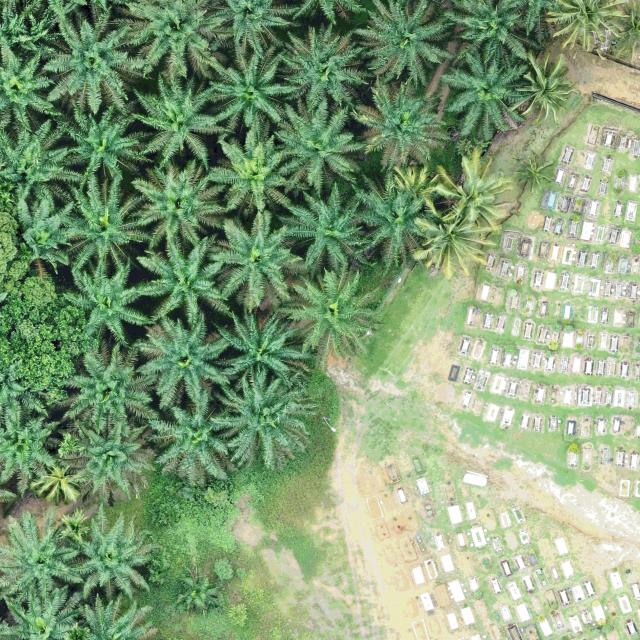Tree: (0, 268, 100, 400), (38, 5, 149, 116), (277, 262, 386, 366), (192, 212, 306, 311), (129, 155, 233, 254), (208, 375, 316, 469), (345, 80, 451, 174), (110, 0, 233, 81), (62, 173, 154, 281), (275, 178, 375, 277), (344, 0, 458, 86), (133, 310, 230, 410), (55, 511, 159, 604), (62, 336, 157, 436), (438, 44, 526, 142), (209, 302, 311, 385), (146, 396, 240, 486), (135, 234, 228, 324), (130, 75, 223, 165), (279, 20, 370, 110), (214, 134, 307, 221), (273, 103, 365, 190), (60, 256, 153, 342), (207, 45, 295, 135), (67, 419, 161, 502), (0, 504, 82, 598), (60, 103, 154, 183), (350, 172, 425, 272), (410, 199, 494, 281), (0, 116, 75, 205), (436, 149, 515, 229), (442, 0, 546, 60), (10, 192, 84, 276), (0, 35, 63, 131), (200, 0, 306, 56), (60, 590, 168, 640), (0, 580, 86, 640), (510, 50, 578, 124), (0, 414, 60, 496), (544, 0, 628, 53), (0, 356, 50, 430), (390, 162, 444, 216), (610, 0, 640, 61)
